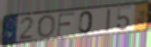0: (78, 10, 94, 35)
2: (18, 16, 36, 42)
5: (115, 5, 134, 32)
F: (56, 12, 76, 38)
I: (106, 8, 113, 33)
O: (36, 14, 57, 39)
